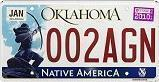placa de veiculo: (2, 3, 156, 79)
